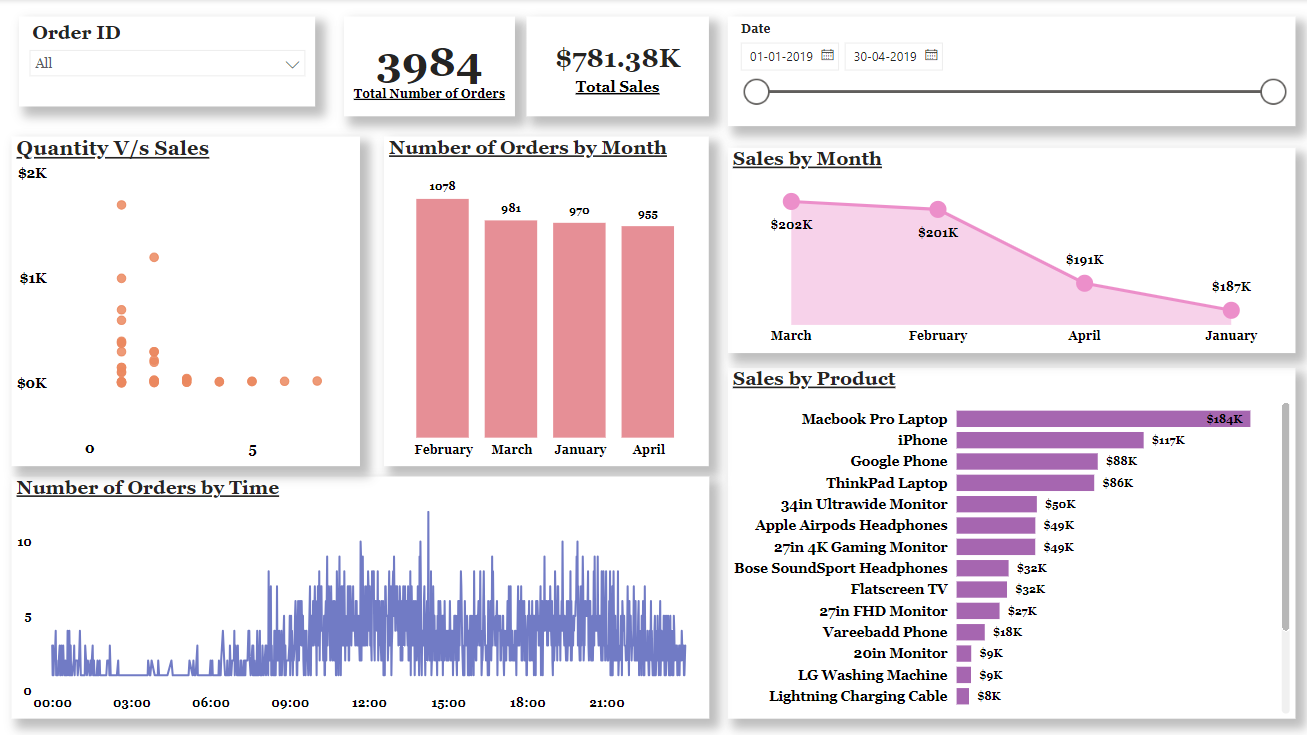

What the dashboard file says about the page in this screenshot:
{"tool":"powerbi","page":{"name":"Requirements","canvas":[1280,720],"ordinal":0},"visuals":[{"type":"card","fields":{"Values":["Count(Sales Combined.Order ID)"]},"box":[337.4,17.1,167.5,97.8],"z":0},{"type":"barChart","title":"Sales by Product","fields":{"Category":["Sales Combined.Product"],"Y":["Sum(Sales Combined.Sales)"]},"box":[712.7,360.6,555,343.5],"z":1000},{"type":"slicer","fields":{"Values":["Sales Combined.Order ID"]},"box":[19.6,17.1,289.7,88],"z":2000},{"type":"card","fields":{"Values":["Sum(Sales Combined.Sales)"]},"box":[516,17.1,178.5,97.8],"z":3000},{"type":"areaChart","title":"Sales by Month","fields":{"Category":["Sales Combined.Month Name"],"Y":["Sum(Sales Combined.Sales)"]},"box":[712.7,145.5,555,200.5],"z":4000},{"type":"columnChart","title":"Number of Orders by Month","fields":{"Y":["Count(Sales Combined.Order ID)"],"Category":["Sales Combined.Month Name"]},"box":[376.5,134.5,317.8,322.7],"z":5000},{"type":"lineChart","title":"Number of Orders by Time","fields":{"Y":["Count(Sales Combined.Order ID)"],"Category":["Sales Combined.Time"]},"box":[12.2,467,682.1,237.1],"z":6000},{"type":"scatterChart","title":"Quantity V/s Sales","fields":{"Y":["Sales Combined.Sales"],"X":["Sales Combined.Quantity Ordered"]},"box":[12.2,134.5,341.1,322.7],"z":7000},{"type":"actionButton","box":[0,0,39.1,26.9],"z":8000},{"type":"slicer","fields":{"Values":["Sales Combined.Date"]},"box":[712.7,17.1,555,107.6],"z":9000}]}

Visuals, with their boxes in screenshot pixels (x1, y1, x2, y2), scaled from the page's 1280x720 canvas onto the 1307x735 screenshot:
card - Count(Sales Combined.Order ID): bbox=(345, 17, 516, 117)
"Sales by Product" barChart: bbox=(728, 368, 1294, 719)
slicer - Sales Combined.Order ID: bbox=(20, 17, 316, 107)
card - Sum(Sales Combined.Sales): bbox=(527, 17, 709, 117)
"Sales by Month" areaChart: bbox=(728, 149, 1294, 353)
"Number of Orders by Month" columnChart: bbox=(384, 137, 709, 467)
"Number of Orders by Time" lineChart: bbox=(12, 477, 709, 719)
"Quantity V/s Sales" scatterChart: bbox=(12, 137, 361, 467)
actionButton: bbox=(0, 0, 40, 27)
slicer - Sales Combined.Date: bbox=(728, 17, 1294, 127)
